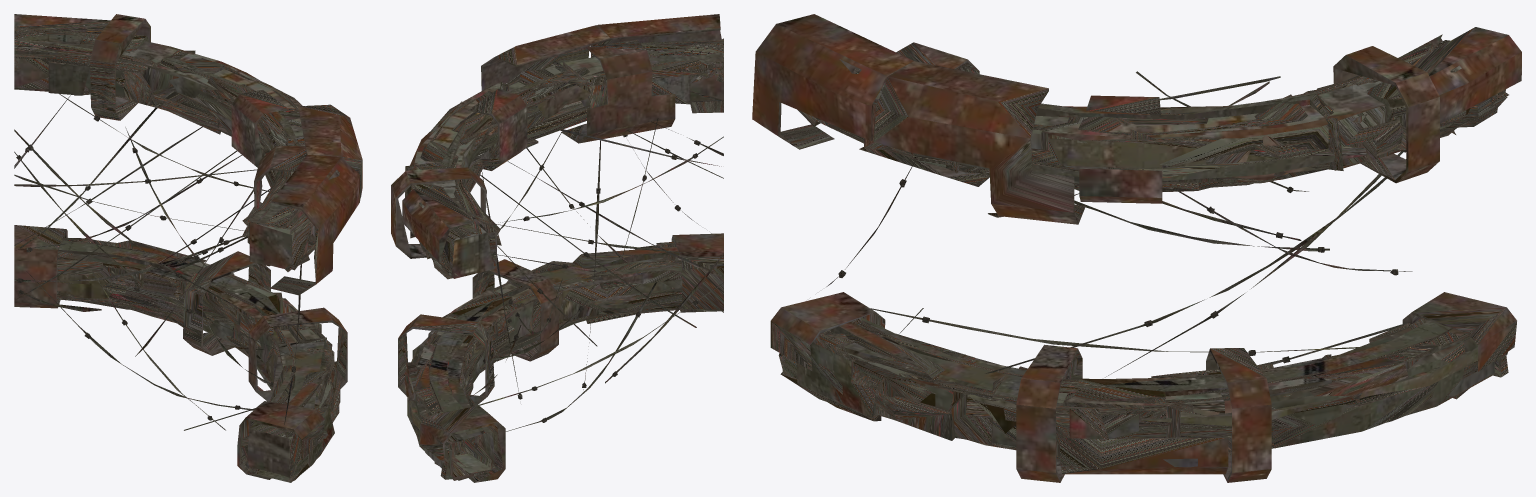
The model's file is sub-ftl-sector.glb.
The picture shows the model from 3 angles, left to right: view 1: azimuth 30°, elevation 25°; view 2: azimuth 150°, elevation 25°; view 3: azimuth 270°, elevation 25°; orthographic projection. The views are drawn at different scales.
Visible parts, largest first — view 1: subFtlSector-lod0; view 2: subFtlSector-lod0; view 3: subFtlSector-lod0.
Boxes of the visible parts, x1,y1,x2,y2 form: subFtlSector-lod0: [14, 14, 362, 482]; subFtlSector-lod0: [391, 14, 723, 482]; subFtlSector-lod0: [752, 14, 1521, 482].
Size of what is drawn, in the model's own units: 1.15 by 1.08 by 2.
2 materials, 2 textured.
